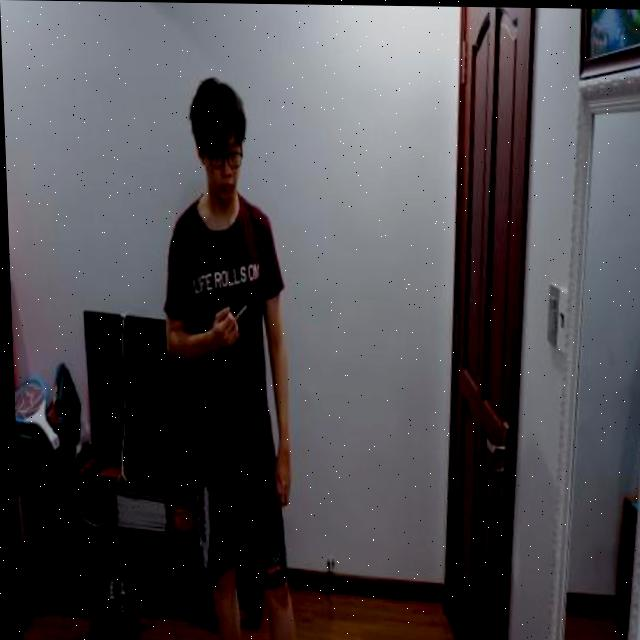cigarette: (230, 303, 246, 323)
